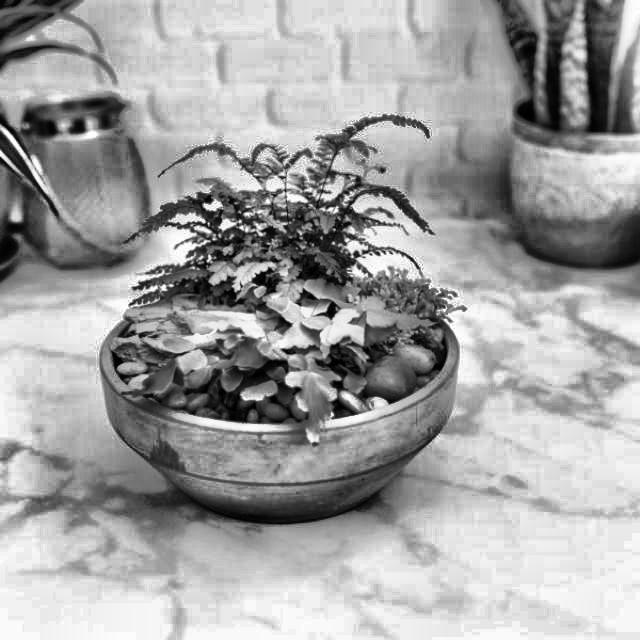plants: (104, 126, 464, 494), (501, 8, 639, 292)
